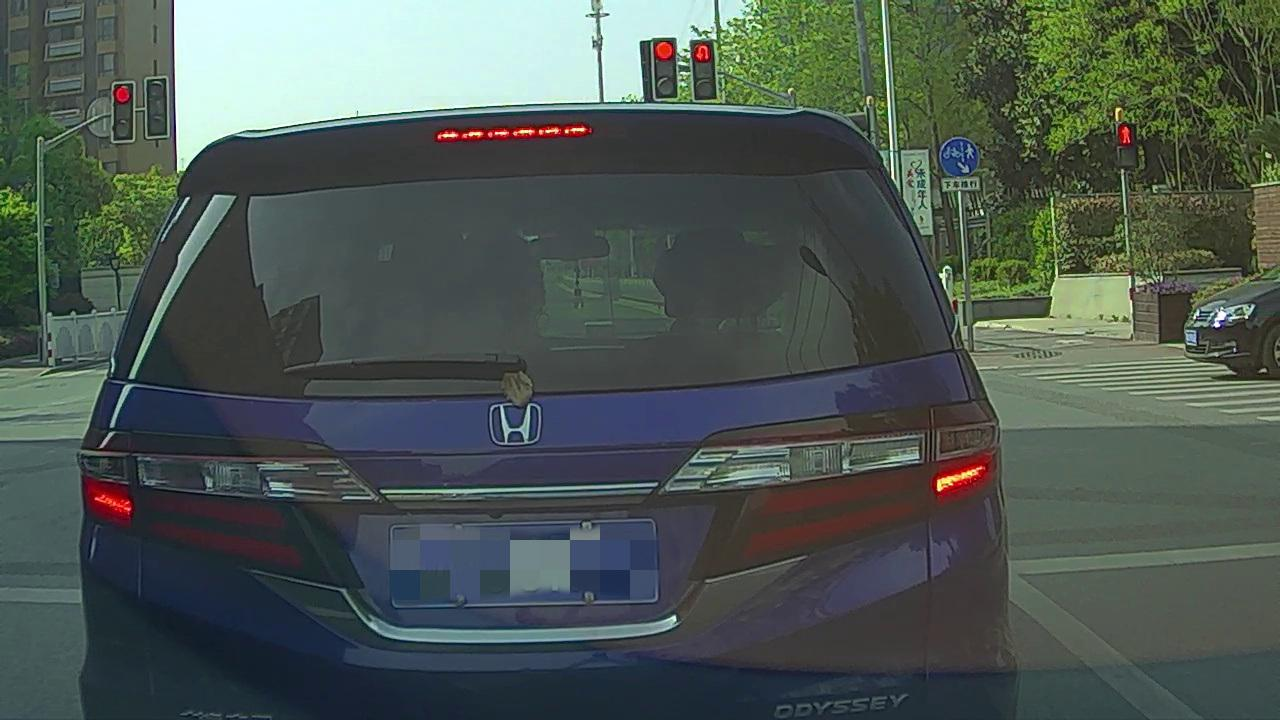traffic_light: (653, 40, 679, 101), (691, 42, 717, 102), (145, 79, 169, 138), (114, 82, 135, 142)
